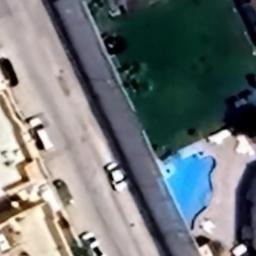sedan: (102, 162, 132, 196), (0, 54, 21, 90), (78, 228, 105, 256)
van: (26, 114, 56, 154), (52, 174, 76, 207)
